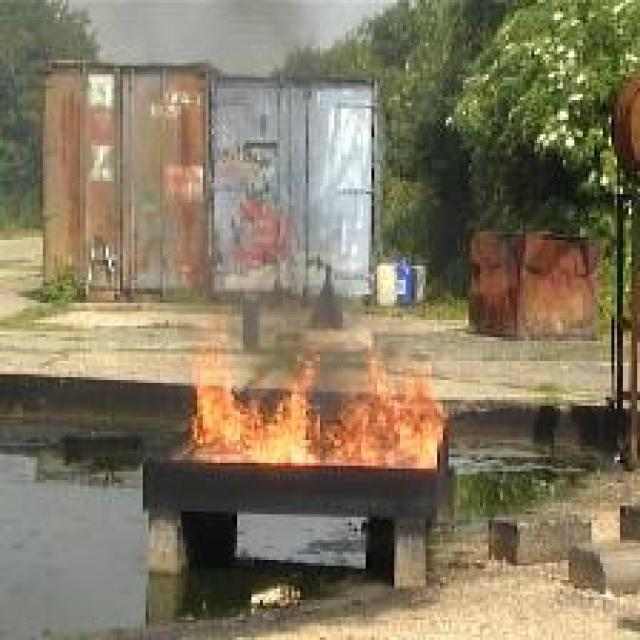Fire: (191, 327, 446, 470)
